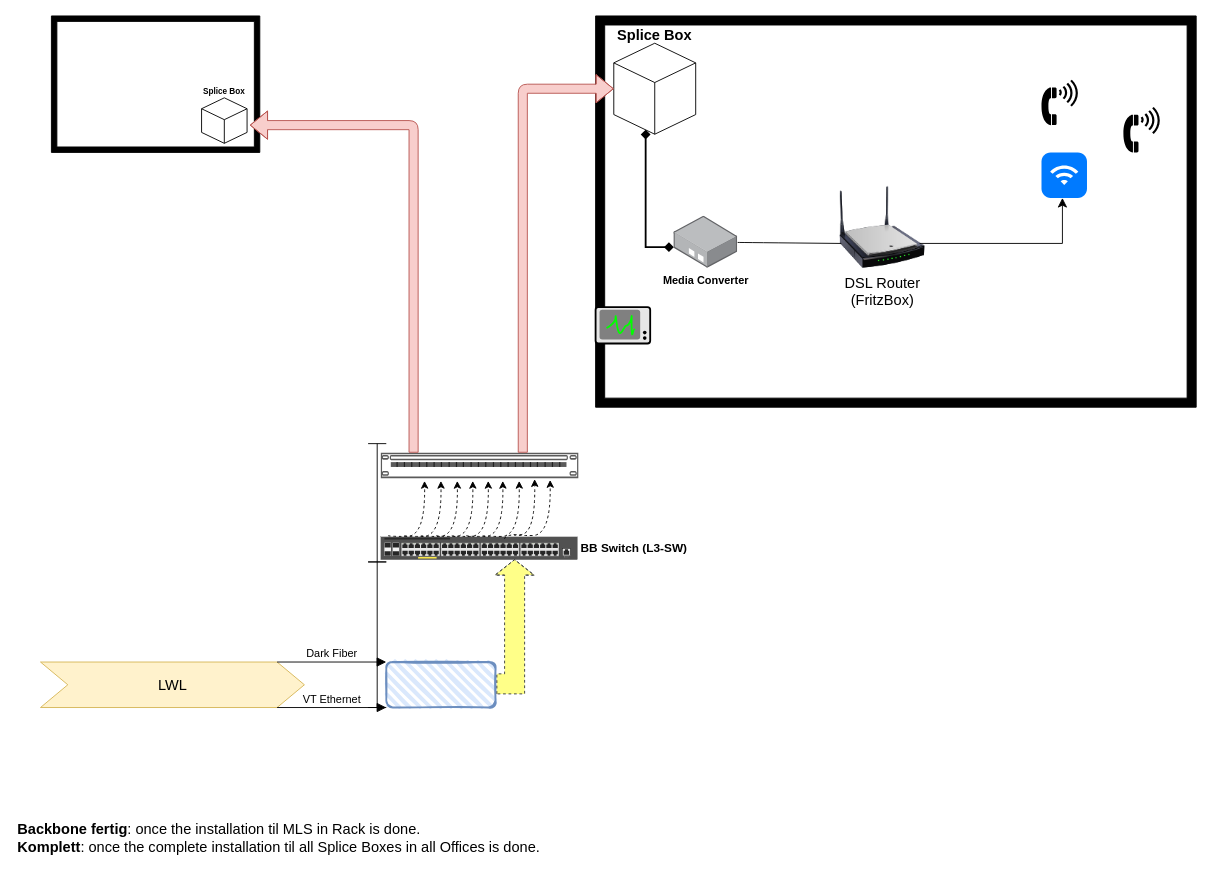
This 1212x885 diagram has some shape labels left out. Here are the shapes that lost their labels. From the top down, the box of each, then its label:
(1041, 152, 1087, 197): Dect Station
(380, 452, 578, 478): FDP
(385, 661, 496, 708): Budi
